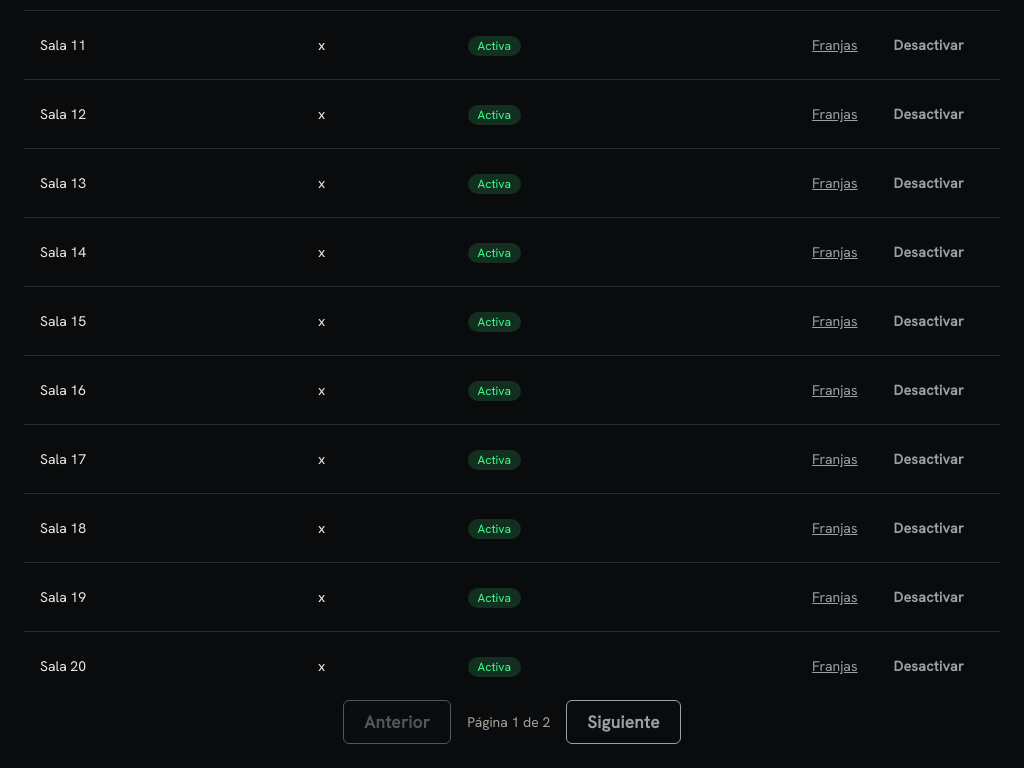
Test: AdminRoomsPage › paginates: more than one page of rooms shows the second page
This screenshot has width=1024, height=768.
(page scrolled)
Click the button "Siguiente". click: (623, 722)
box: [566, 700, 681, 744]
(page scrolled)
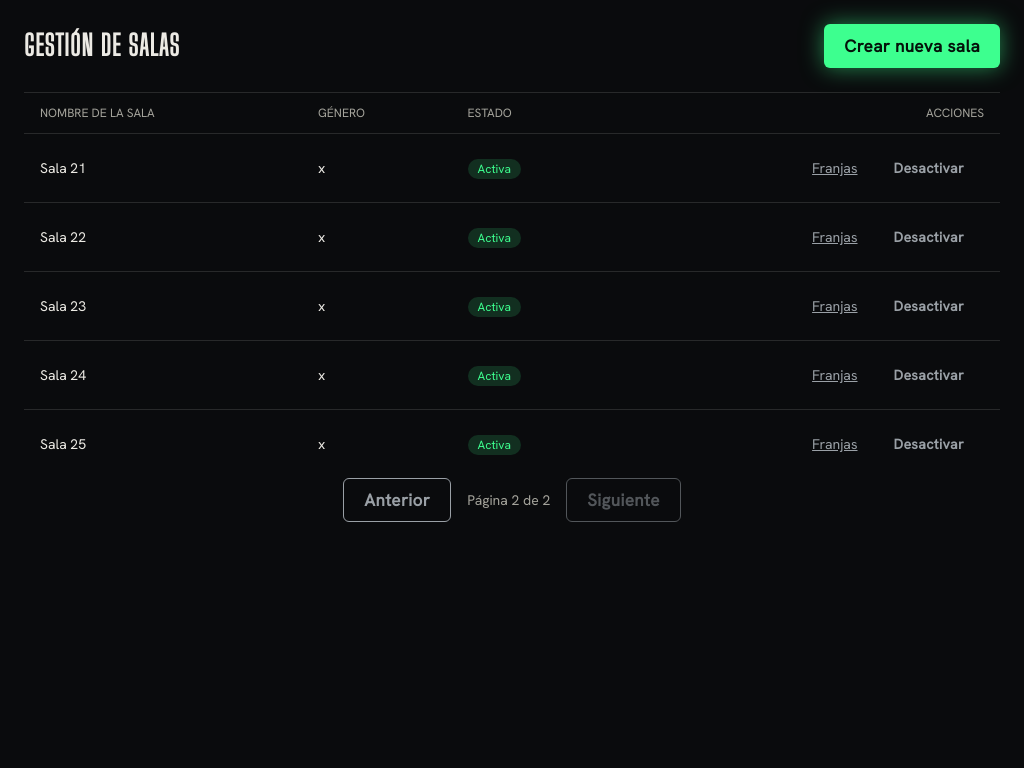
Expected: the text "Sala 21" is shown, [24, 134, 302, 202]
